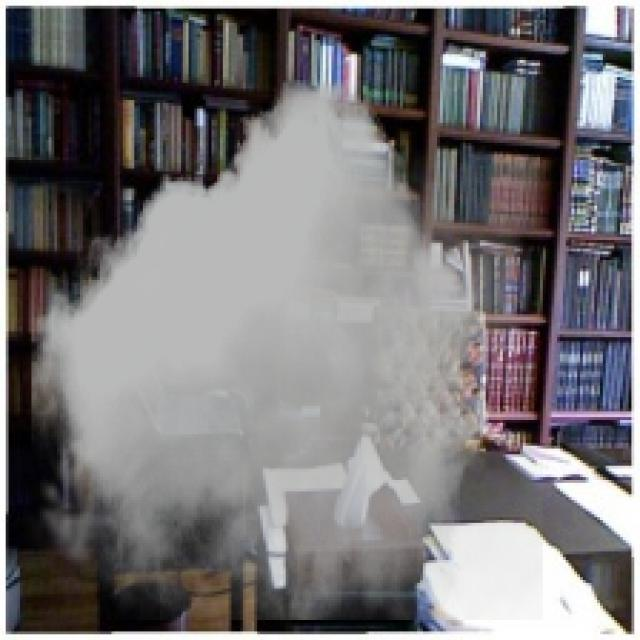Smoke: (23, 80, 543, 620)
